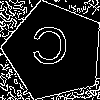C: (29, 26, 70, 75)
